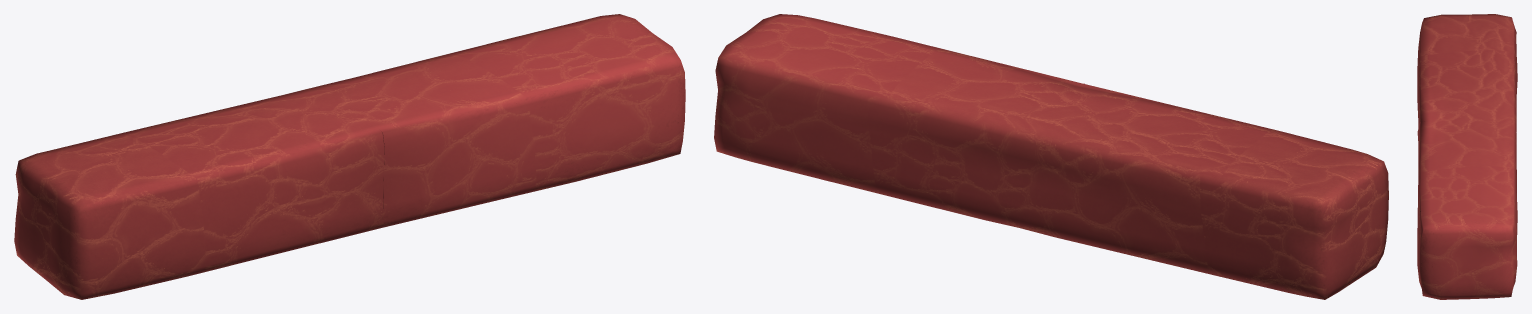
Rendered from tile6 1.fbx.
3 views of the same model, side by side, from view 1: azimuth 30°, elevation 25°; view 2: azimuth 150°, elevation 25°; view 3: azimuth 270°, elevation 25° (orthographic). The views are drawn at different scales.
Parts seen in each view (by area): view 1: PLATAFORMBAIXO1.004; view 2: PLATAFORMBAIXO1.004; view 3: PLATAFORMBAIXO1.004.
Boxes of the visible parts, x1,y1,x2,y2 form: PLATAFORMBAIXO1.004: (14, 14, 685, 299); PLATAFORMBAIXO1.004: (714, 14, 1388, 299); PLATAFORMBAIXO1.004: (1417, 14, 1517, 299).
Size of the model in its own units: 3250 by 536 by 634.
